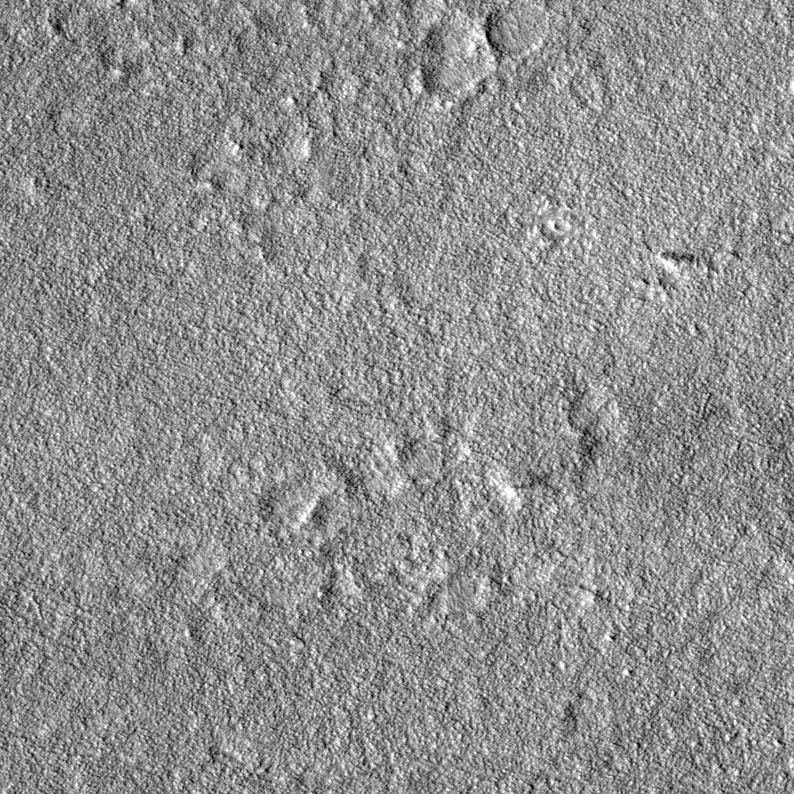dust_devil: (656, 249, 696, 273), (504, 481, 535, 498)
